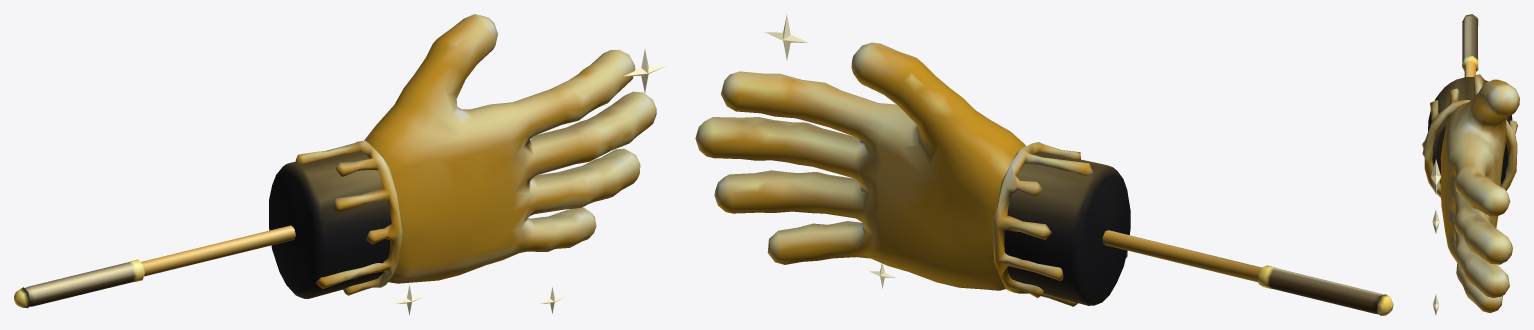
The model's file is glove_golden.glb.
The picture shows the model from 3 angles, left to right: view 1: azimuth 30°, elevation 25°; view 2: azimuth 150°, elevation 25°; view 3: azimuth 270°, elevation 25°; orthographic projection. The views are drawn at different scales.
Parts seen in each view (by area): view 1: Glove, Stick, Glow; view 2: Glove, Stick, Glow; view 3: Glove, Stick, Glow.
Boxes of the visible parts, bbox=[...] form: Glove: bbox=[269, 14, 656, 298]; Stick: bbox=[14, 225, 295, 308]; Glow: bbox=[394, 49, 666, 315]; Glove: bbox=[695, 42, 1130, 306]; Stick: bbox=[1102, 230, 1393, 315]; Glow: bbox=[764, 15, 895, 288]; Glove: bbox=[1422, 74, 1519, 312]; Stick: bbox=[1462, 14, 1478, 76]; Glow: bbox=[1431, 159, 1440, 315].
Bounding box in the file's own units: 1.17 × 0.4694 × 0.1911.
